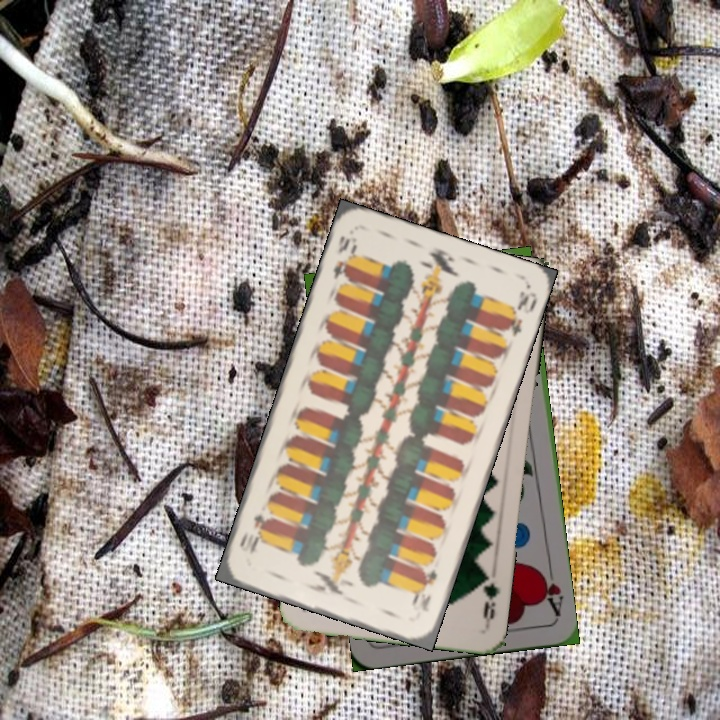E10: (329, 232, 360, 283), (410, 564, 440, 615)
G9: (476, 568, 503, 629)
HA: (535, 561, 566, 620)
